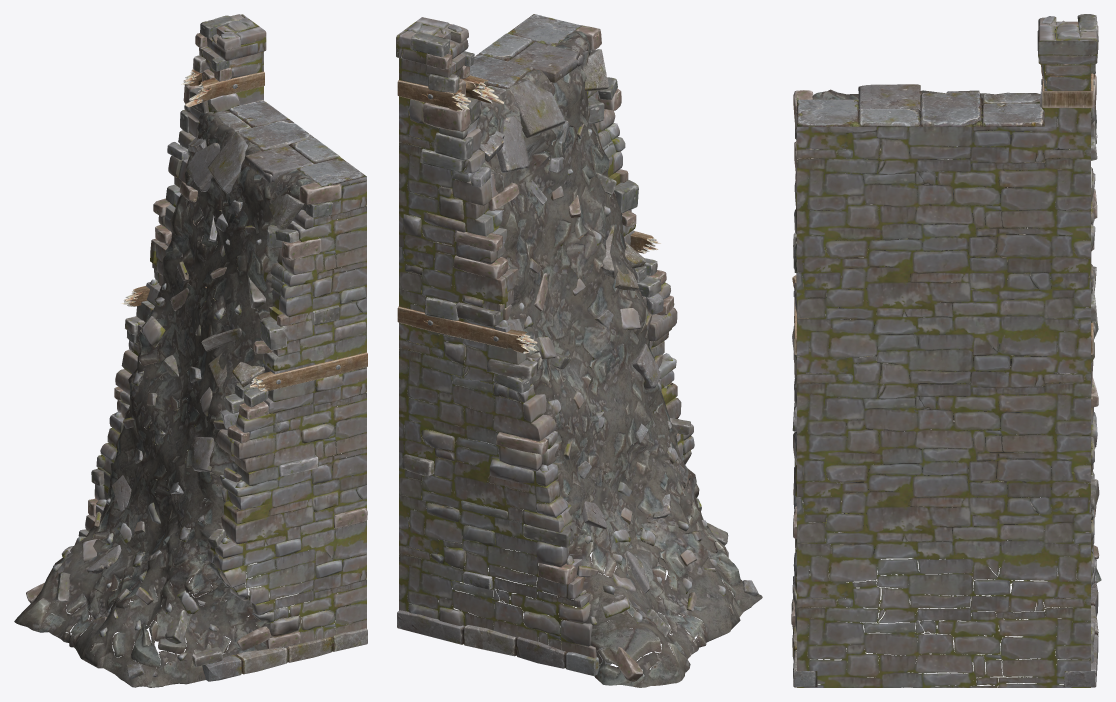
The picture shows the model from 3 angles, left to right: view 1: azimuth 30°, elevation 25°; view 2: azimuth 150°, elevation 25°; view 3: azimuth 270°, elevation 25°; orthographic projection. The views are drawn at different scales.
Visible parts, largest first — view 1: SM_Castle_Wall_4x12_01_Dmg_v4_LOD0; view 2: SM_Castle_Wall_4x12_01_Dmg_v4_LOD0; view 3: SM_Castle_Wall_4x12_01_Dmg_v4_LOD0.
Part boxes in pixels (box(x1,y1,x2,y2)): SM_Castle_Wall_4x12_01_Dmg_v4_LOD0: box(14, 14, 367, 687); SM_Castle_Wall_4x12_01_Dmg_v4_LOD0: box(396, 14, 762, 687); SM_Castle_Wall_4x12_01_Dmg_v4_LOD0: box(791, 14, 1101, 687).
Size of the model in its own units: 5.44 by 11.67 by 5.01.
5 materials, 5 textured.
